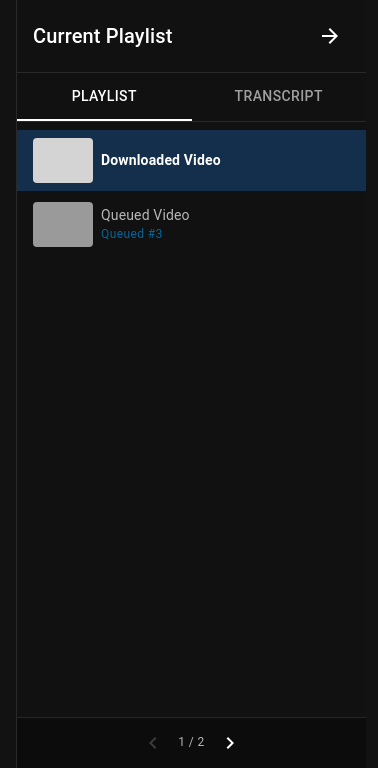
Test case: PlayerPlaylistDrawer Component (Desktop) › hides pagination controls when viewing transcript or chapters tab
The image size is (378, 768).
Expected: the text "1 / 2" is shown, [178,733,205,753]
Click the tab "Transcript" at x=279, y=97, box [192,73,366,121]
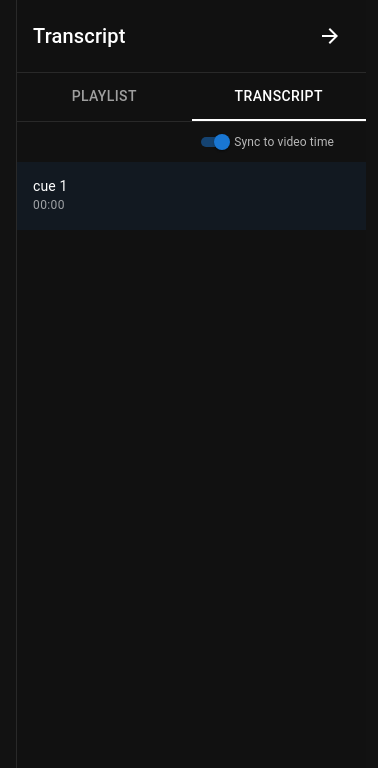
Expected: the text "1 / 2" is gone
